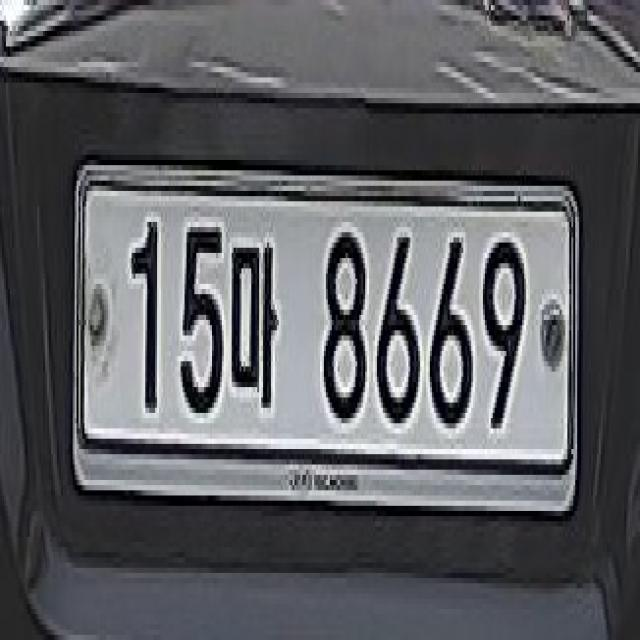1: (126, 196, 167, 423)
5: (177, 206, 226, 424)
6: (373, 212, 424, 434), (428, 216, 475, 434)
8: (320, 212, 371, 434)
9: (479, 212, 528, 438)
license_plate: (67, 144, 583, 526)
ma: (230, 227, 280, 418)
